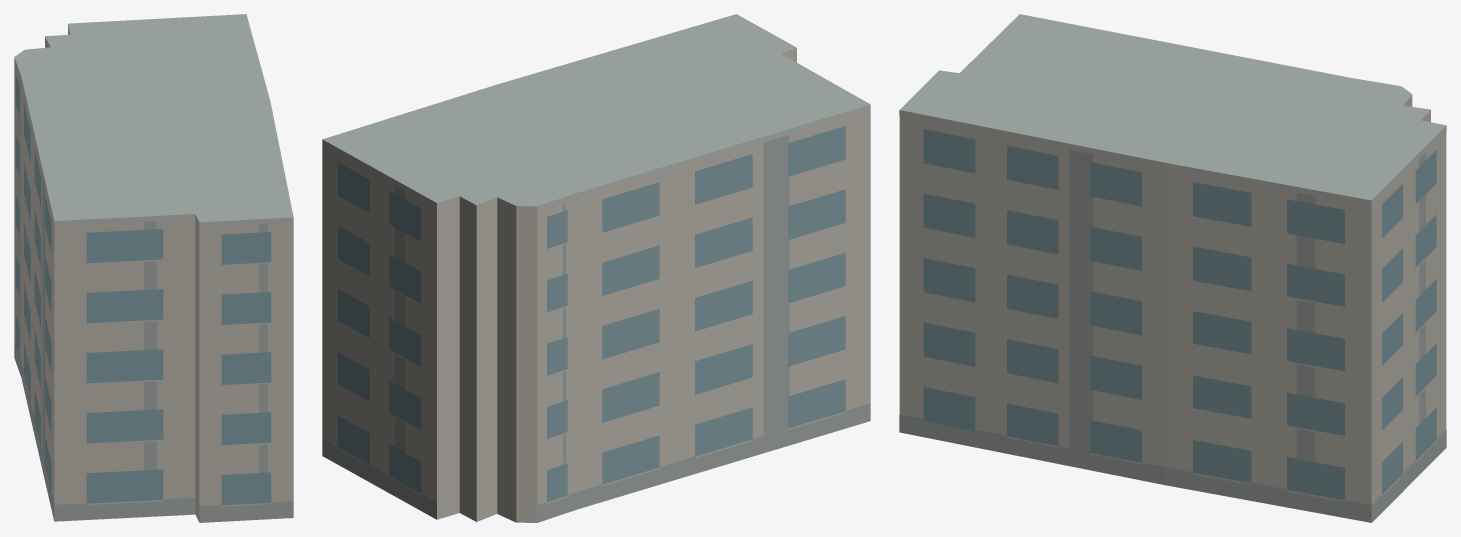
File: survey-upis-32532135.glb
3 views of the same model, side by side, from view 1: azimuth 30°, elevation 25°; view 2: azimuth 150°, elevation 25°; view 3: azimuth 270°, elevation 25° (orthographic). The views are drawn at different scales.
Visible parts, largest first — view 1: survey-upis-32532135.tmp; view 2: survey-upis-32532135.tmp; view 3: survey-upis-32532135.tmp.
Boxes of the visible parts, left/top/right/bottom form: survey-upis-32532135.tmp: left=14, top=14, right=293, bottom=522; survey-upis-32532135.tmp: left=322, top=14, right=870, bottom=522; survey-upis-32532135.tmp: left=899, top=14, right=1446, bottom=522.
Size of the model in its own units: 16.38 by 13.2 by 20.31.
